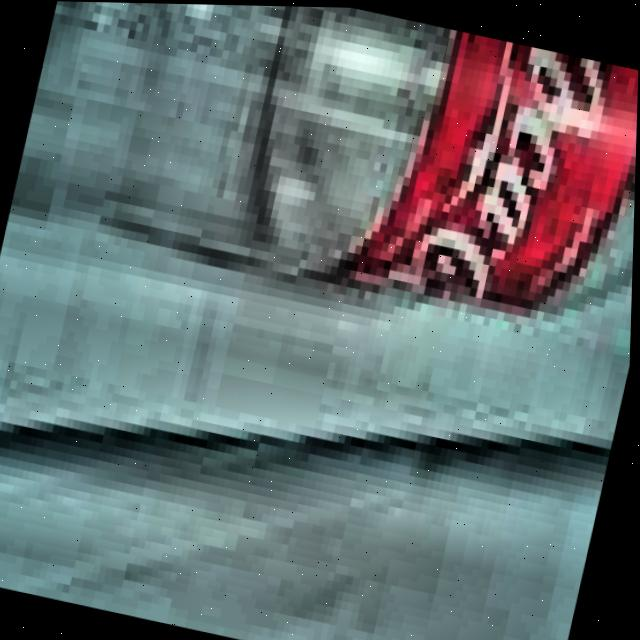plastic: (0, 0, 640, 379)
